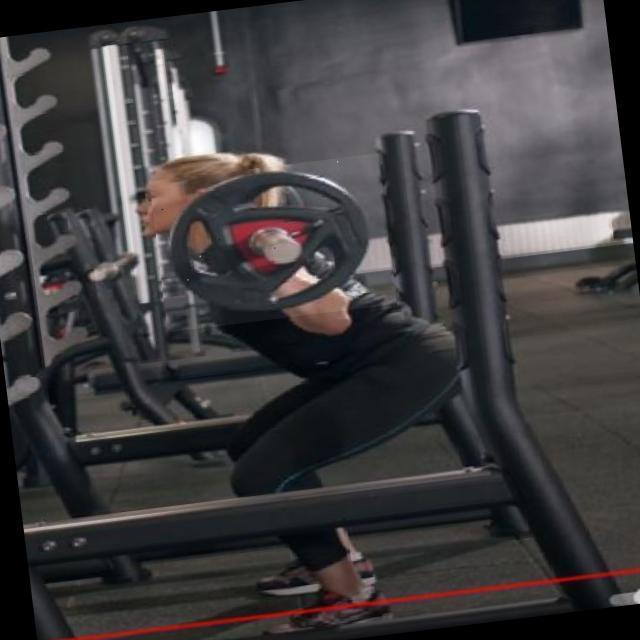barbell: (150, 154, 398, 335)
